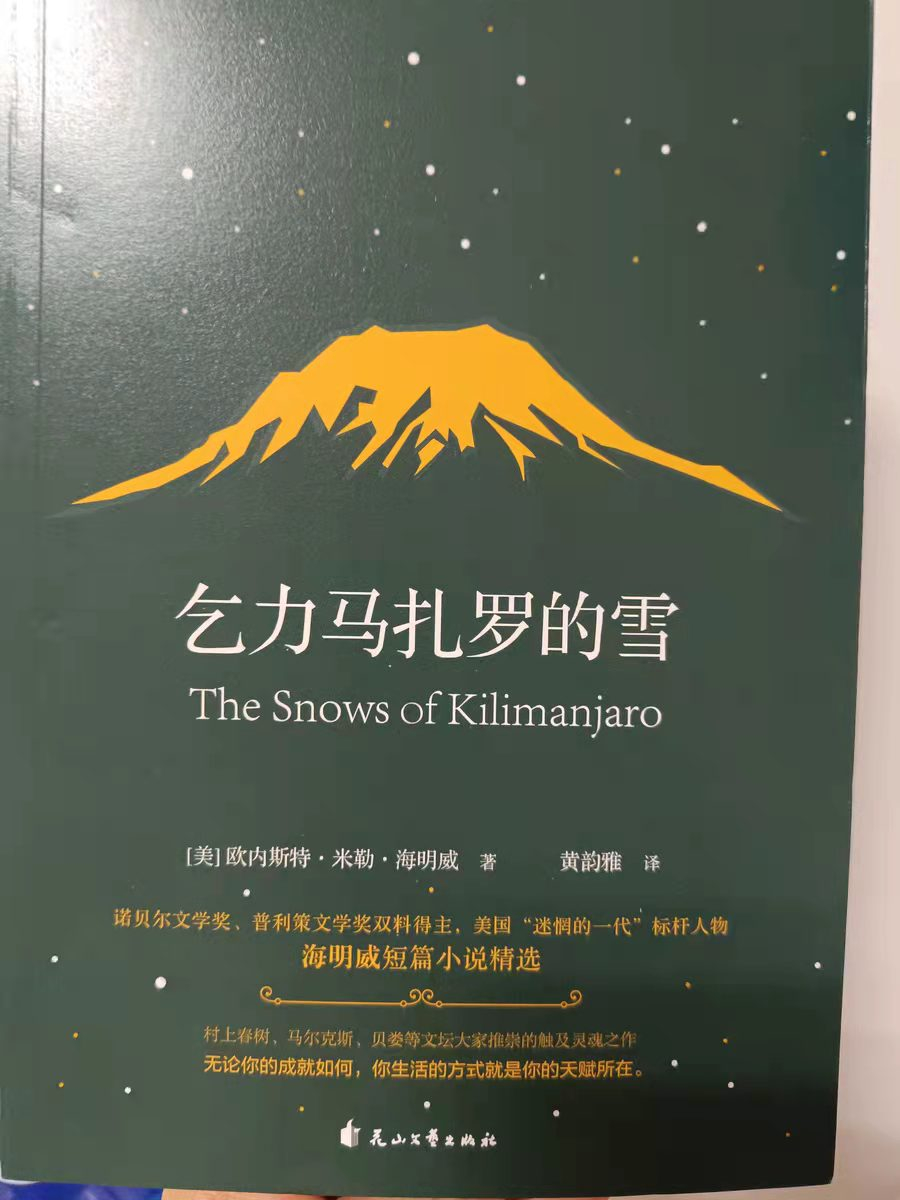book: (5, 7, 866, 1198)
